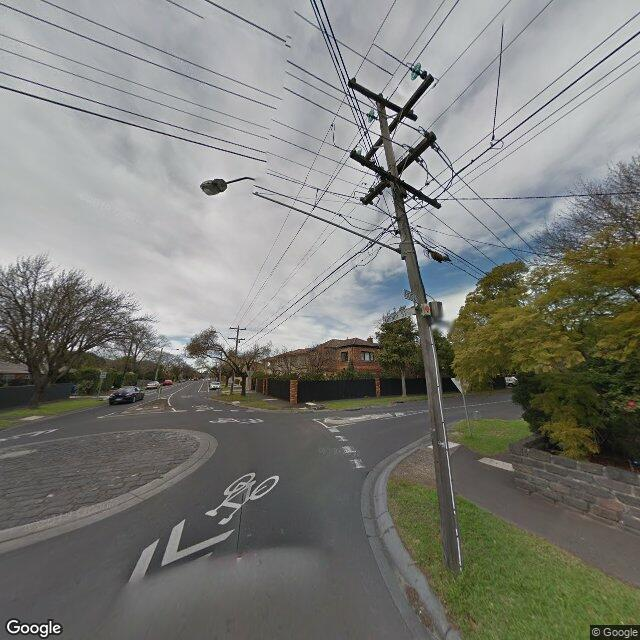HV-transmission: (356, 62, 428, 156)
crossarm: (361, 75, 434, 166), (362, 131, 437, 205), (350, 150, 441, 209), (348, 80, 418, 121), (228, 338, 245, 340), (230, 328, 246, 330)
streetlight: (201, 176, 404, 258)
timber-pole: (376, 93, 462, 574), (235, 325, 239, 355)
